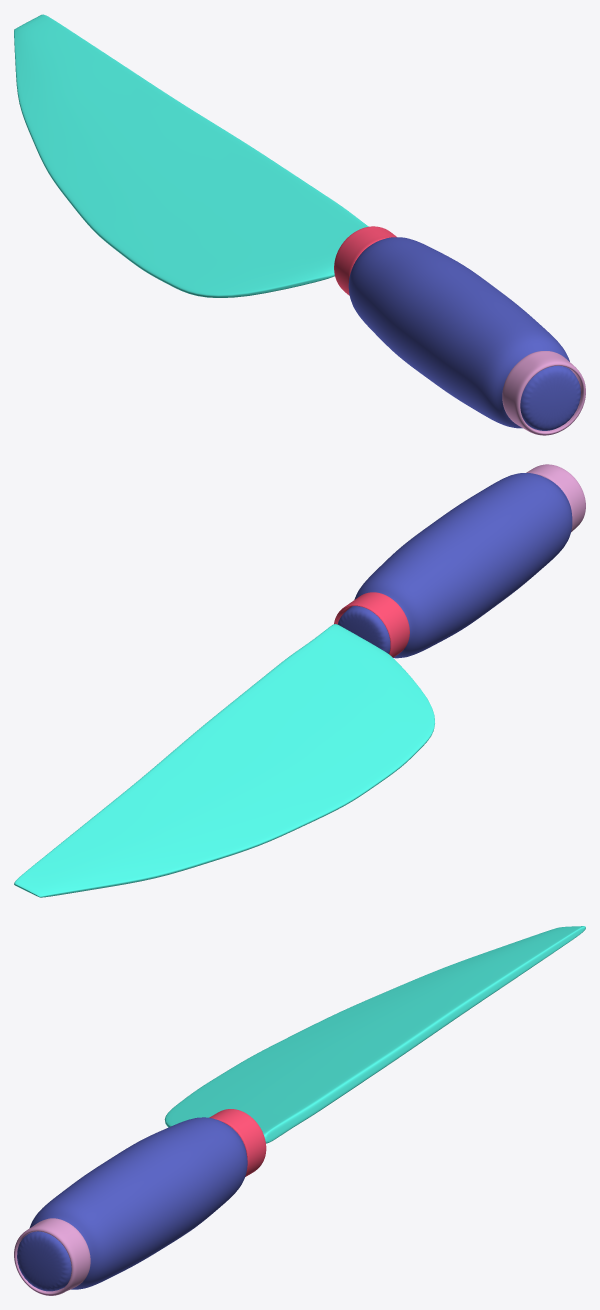
3 views of the same model, one above another, from view 1: azimuth 30°, elevation 25°; view 2: azimuth 150°, elevation 25°; view 3: azimuth 330°, elevation 25° (orthographic). The views are drawn at different scales.
Visible parts, largest first — view 1: Plane_0, Cylinder_0, split_parent_3, split_parent_0; view 2: Plane_0, Cylinder_0, split_parent_0, split_parent_3; view 3: Plane_0, Cylinder_0, split_parent_3, split_parent_0.
Boxes of the visible parts, <box> form: Plane_0: <box>14,14,368,297</box>; Cylinder_0: <box>348,237,580,430</box>; split_parent_3: <box>502,351,585,435</box>; split_parent_0: <box>334,226,396,295</box>; Plane_0: <box>14,624,434,897</box>; Cylinder_0: <box>337,473,572,658</box>; split_parent_0: <box>334,592,409,657</box>; split_parent_3: <box>526,464,585,532</box>; Plane_0: <box>164,926,585,1143</box>; Cylinder_0: <box>17,1117,247,1291</box>; split_parent_3: <box>14,1218,90,1295</box>; split_parent_0: <box>209,1109,266,1176</box>.
Size of the model in its own units: 0.1832 by 0.1042 by 1.
